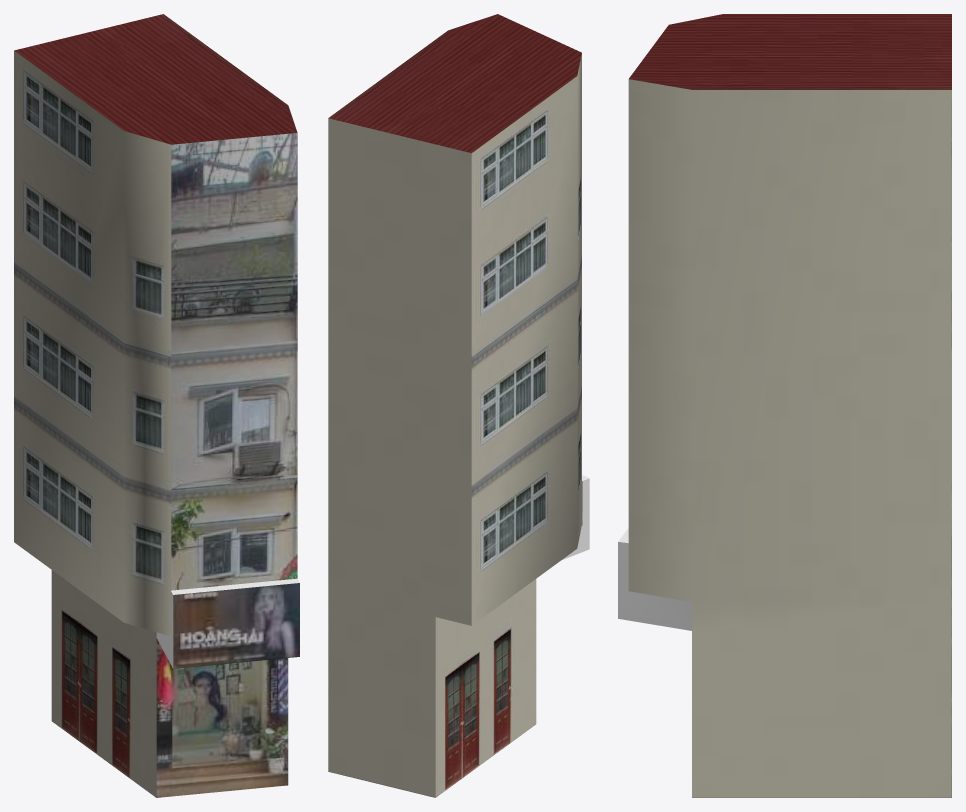
3 views of the same model, side by side, from view 1: azimuth 30°, elevation 25°; view 2: azimuth 150°, elevation 25°; view 3: azimuth 270°, elevation 25° (orthographic). The views are drawn at different scales.
Parts seen in each view (by area): view 1: HN946___Hoang_Hai___Hair_Salon; view 2: HN946___Hoang_Hai___Hair_Salon; view 3: HN946___Hoang_Hai___Hair_Salon.
Part boxes in pixels (<box>): HN946___Hoang_Hai___Hair_Salon: <box>14,14,299,797</box>; HN946___Hoang_Hai___Hair_Salon: <box>328,14,589,797</box>; HN946___Hoang_Hai___Hair_Salon: <box>618,14,951,797</box>.
Size of the model in its own units: 2.5 by 10.87 by 4.65.
1 material, 1 textured.
